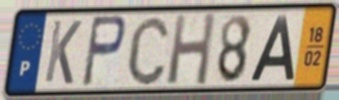8: (215, 13, 253, 85)
A: (247, 13, 297, 84)
C: (124, 13, 172, 88)
H: (165, 10, 218, 88)
K: (42, 18, 84, 87)
P: (79, 13, 128, 90)
